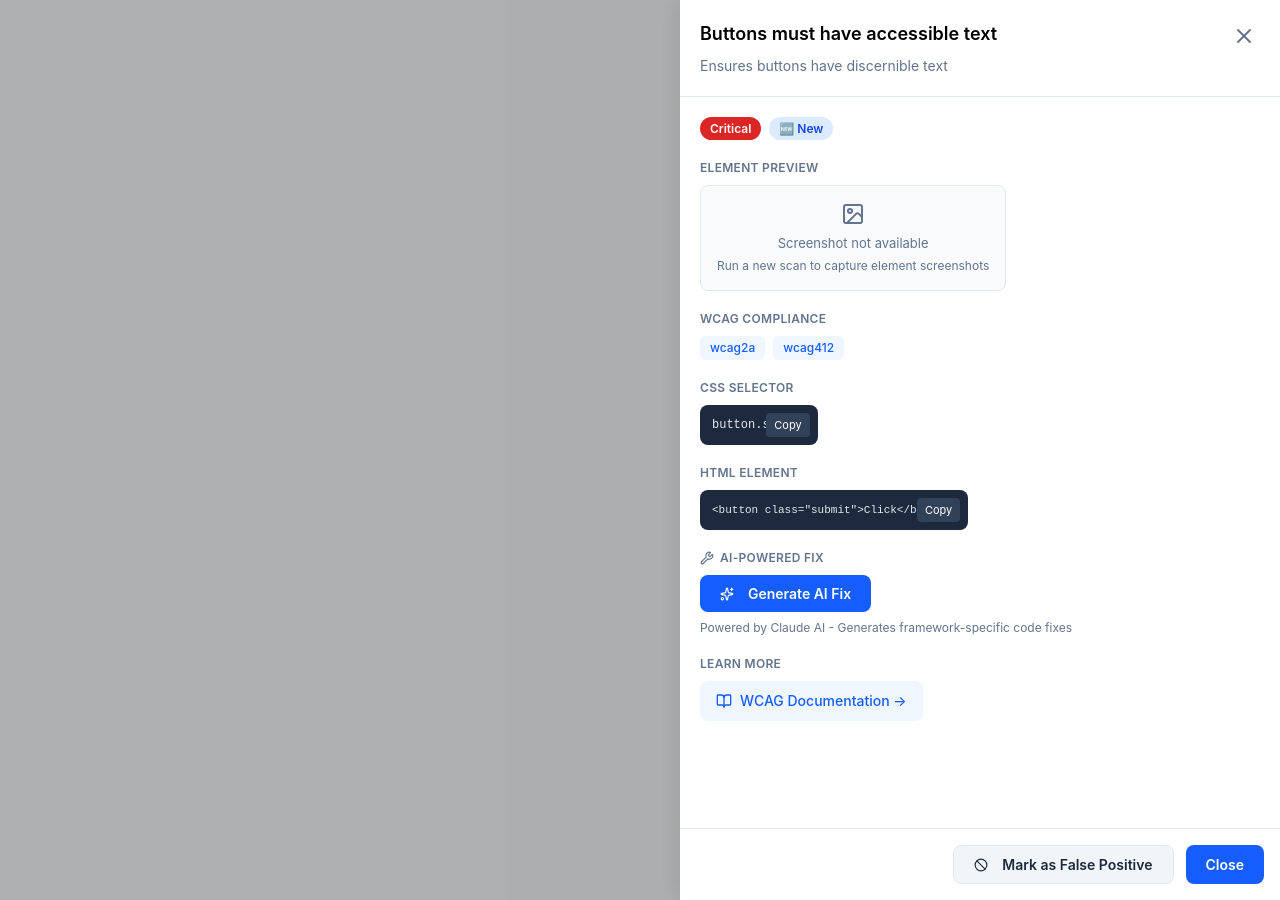
it: components/findings/FindingDetailsDrawer › displays loading state during fix generation
Click the button "Generate AI Fix" at (786, 594), box [700, 575, 871, 612]
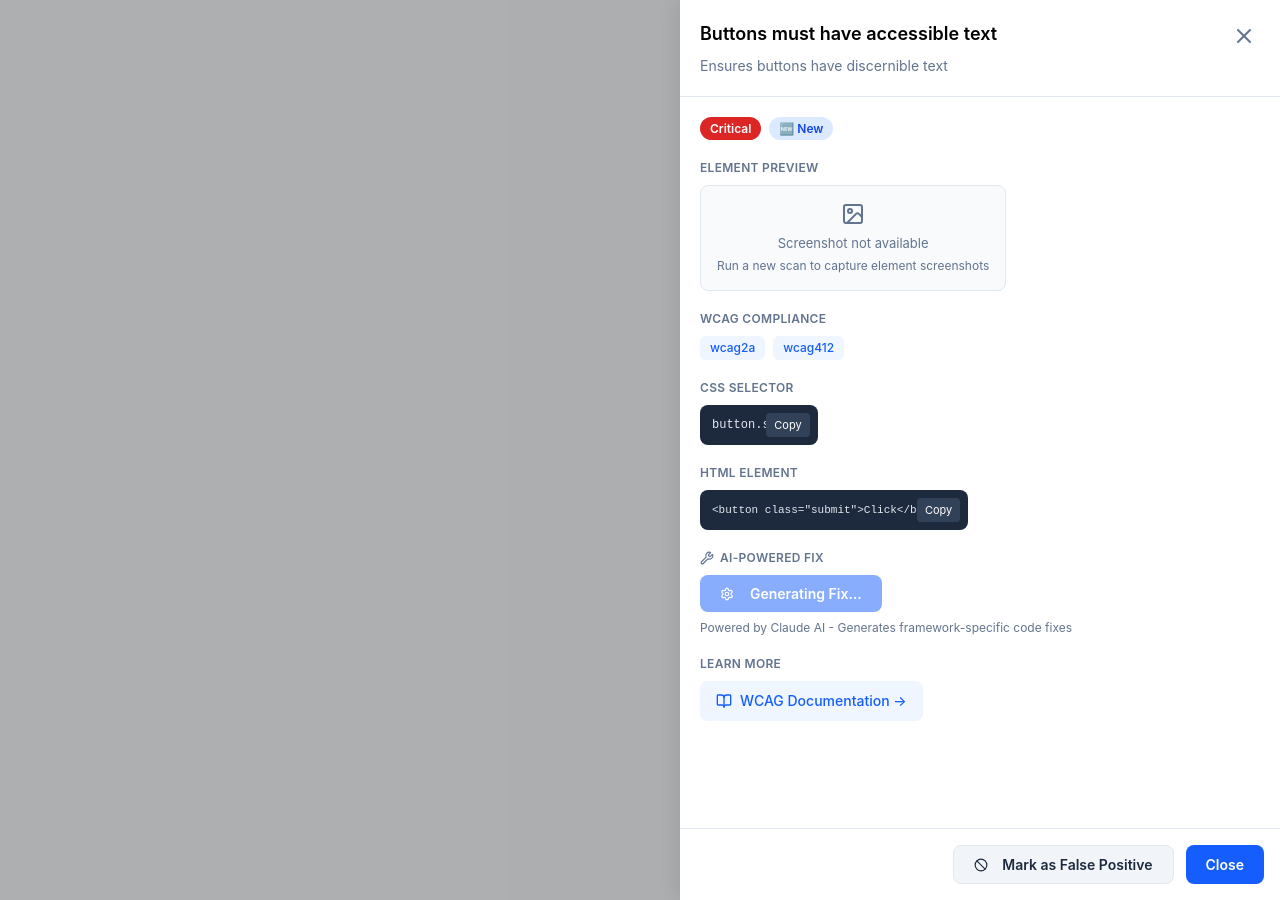
expect the button "Generating Fix..." is shown: met, box [700, 575, 882, 612]
